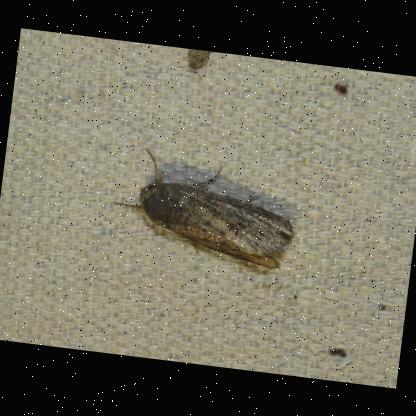Fall Armyworm Moth: (104, 142, 304, 273)
